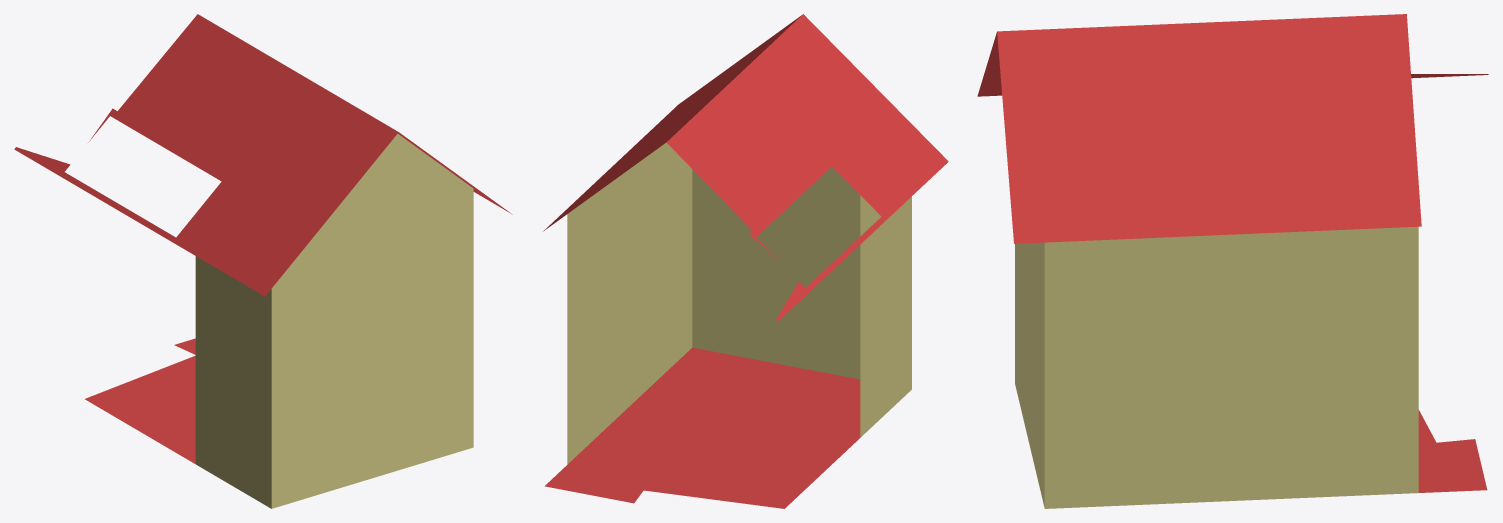
The picture shows the model from 3 angles, left to right: view 1: azimuth 30°, elevation 25°; view 2: azimuth 150°, elevation 25°; view 3: azimuth 270°, elevation 25°; orthographic projection. The views are drawn at different scales.
Size of the model in its own units: 12.1 by 14.88 by 13.56.
